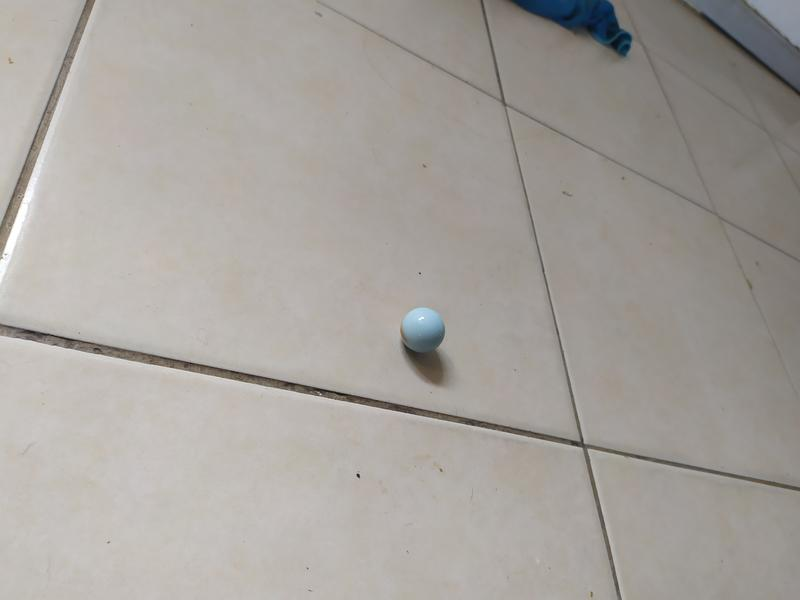Warning: (398, 305, 448, 355)
